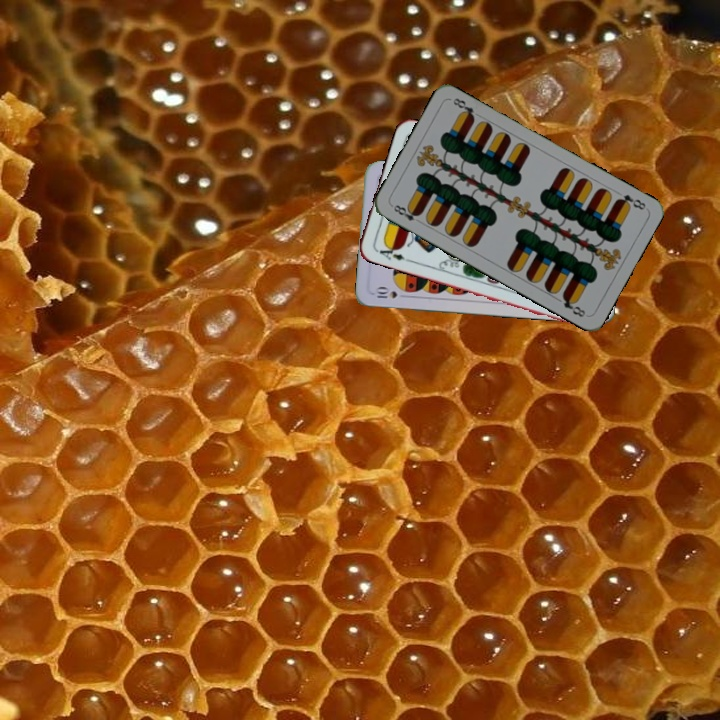E8: (388, 200, 424, 227), (612, 190, 648, 213)
EA: (372, 240, 412, 264)
S10: (372, 284, 410, 301)
